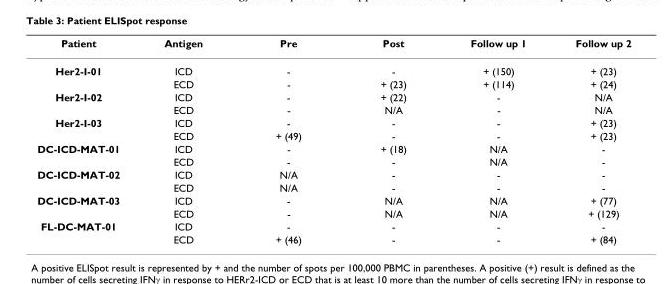table: (36, 36, 630, 244)
table column: (437, 36, 550, 244), (36, 36, 141, 244), (238, 36, 340, 244), (141, 36, 238, 244), (340, 36, 437, 244), (550, 36, 630, 244)
table column header: (36, 36, 630, 56)
table row: (36, 56, 630, 77), (36, 36, 630, 56), (36, 115, 630, 129), (36, 77, 630, 90), (36, 90, 630, 103), (36, 141, 630, 154), (36, 154, 630, 167), (36, 167, 630, 180), (36, 180, 630, 193), (36, 193, 630, 206), (36, 206, 630, 219), (36, 219, 630, 232), (36, 103, 630, 115), (36, 129, 630, 141), (36, 232, 630, 244)
table spanning cell: (36, 56, 141, 90), (36, 115, 141, 141), (36, 141, 141, 167), (36, 167, 141, 193), (36, 193, 141, 219), (36, 90, 141, 115), (36, 219, 141, 244)
